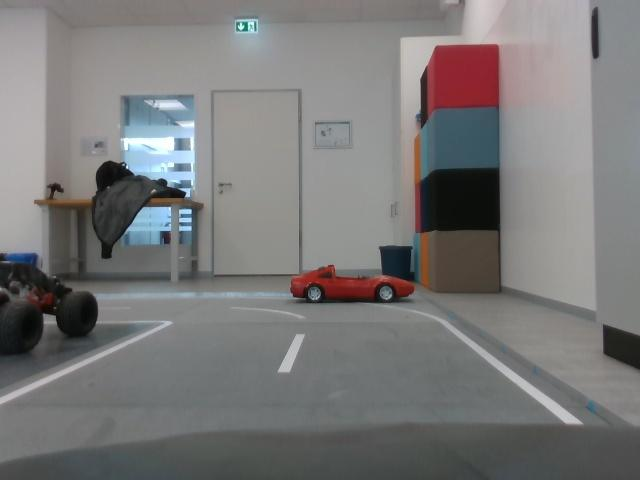car: (2, 255, 109, 357), (292, 264, 421, 309)
